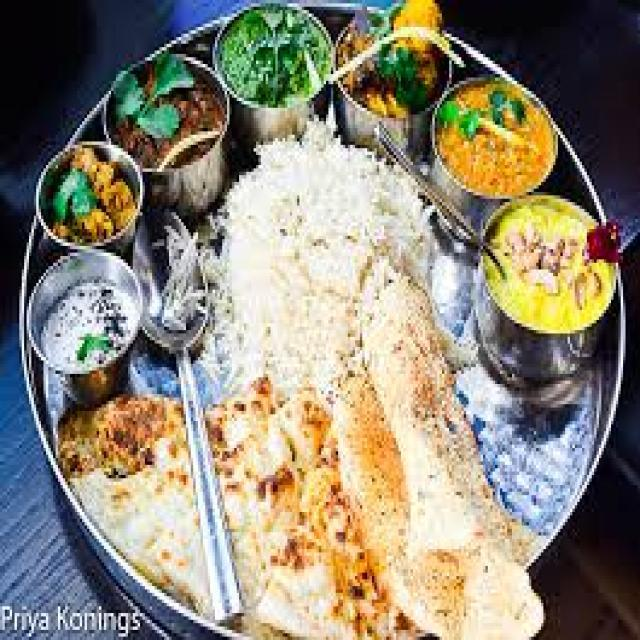curd: (25, 250, 142, 392)
dal: (472, 197, 612, 363)
papad: (332, 254, 478, 586)
raita: (24, 248, 143, 394)
rice: (198, 101, 410, 423)
sweet: (105, 46, 227, 175)
veg-fry: (49, 376, 192, 527), (426, 61, 559, 213), (40, 136, 137, 255)
